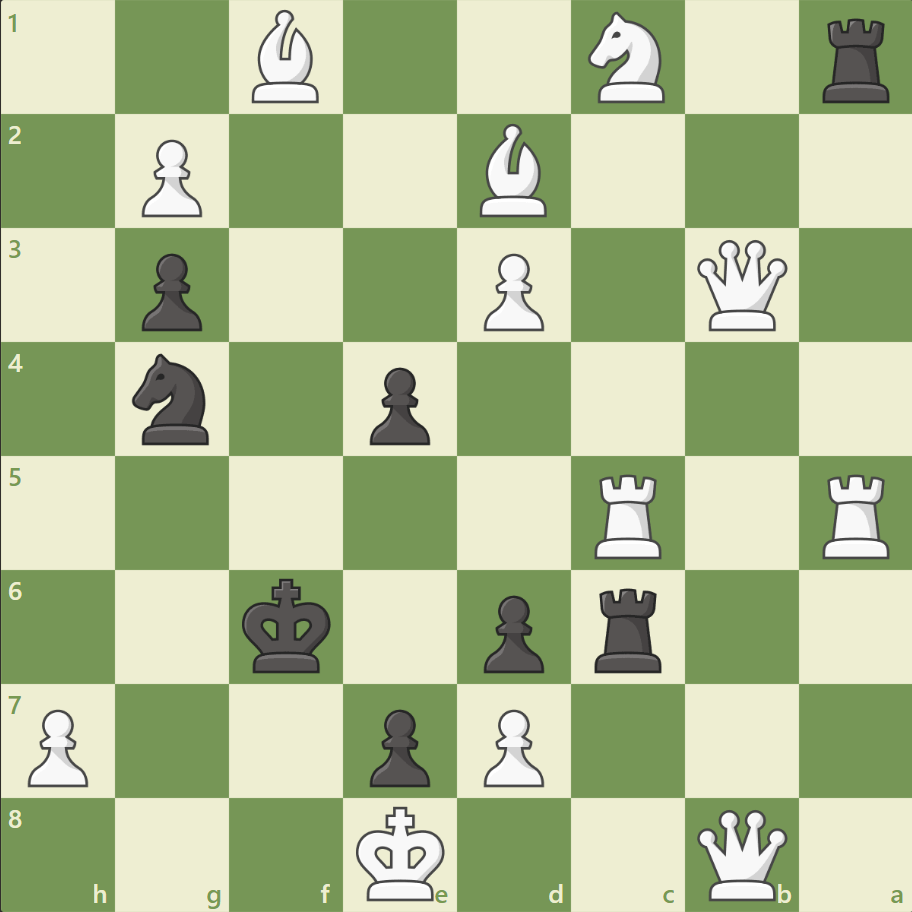B: (244, 6, 328, 109), (471, 120, 555, 222)
K: (351, 798, 451, 906)
N: (579, 7, 676, 110)
P: (474, 700, 549, 791), (20, 700, 95, 791), (474, 246, 549, 337), (133, 132, 208, 223)
Q: (691, 804, 790, 903), (691, 236, 790, 335)
R: (814, 466, 897, 563), (587, 466, 670, 563)
k: (238, 571, 338, 679)
n: (124, 348, 222, 450)
p: (474, 586, 549, 677), (133, 246, 208, 337), (361, 700, 435, 791), (361, 359, 435, 450)
r: (587, 579, 670, 676), (814, 12, 897, 109)
